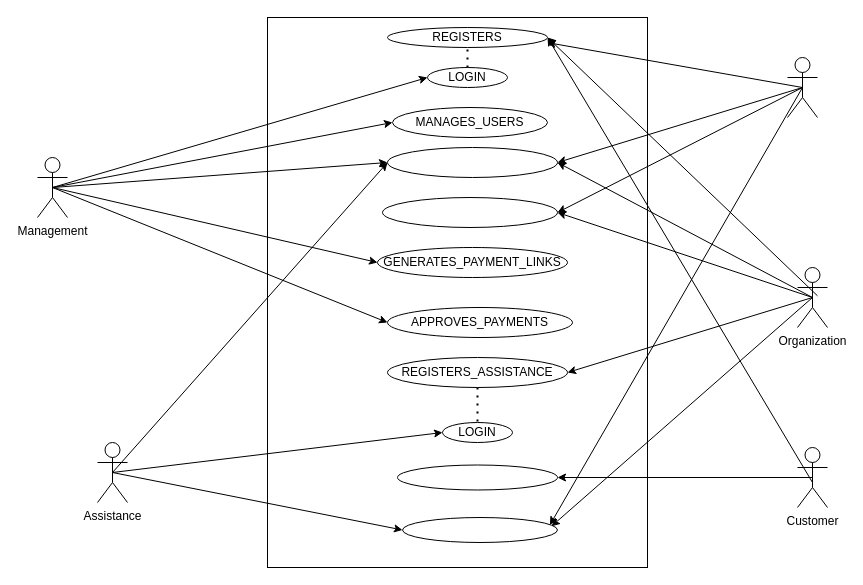
Image size: 863x585. Some labels were removed from this diagram. The shapes that lost their labels are listed below. From the top down, each one's centre as x and y in pixels, then its label:
At point 802,87: "Single_User".
At point 472,162: "MANAGES_PROFILE".
At point 470,212: "REQUESTS_BUYS_TOKENS".
At point 477,477: "REQUESTS_QUEUE".
At point 480,529: "ATTENDS_CUSTOMERS".
